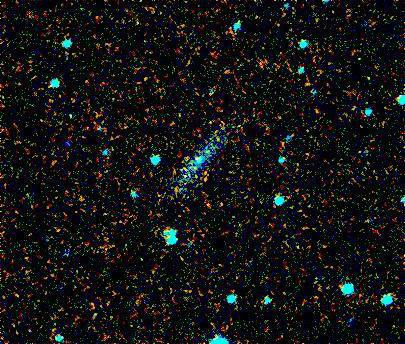star: (192, 164, 222, 194)
